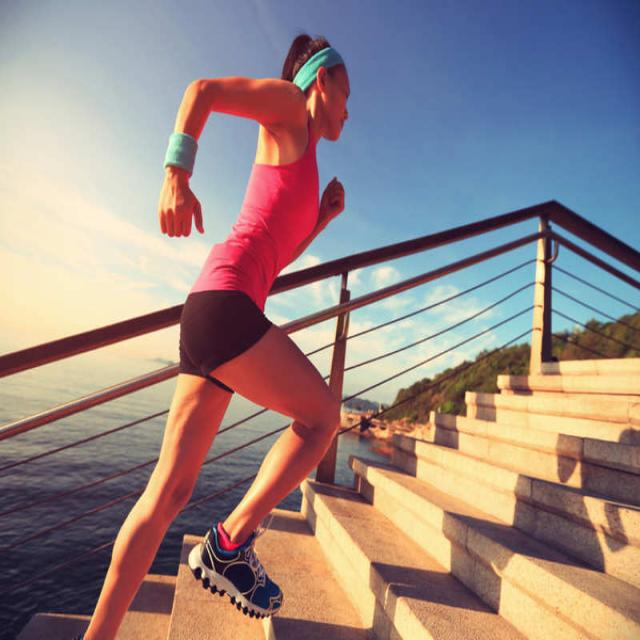running: (72, 30, 354, 640)
